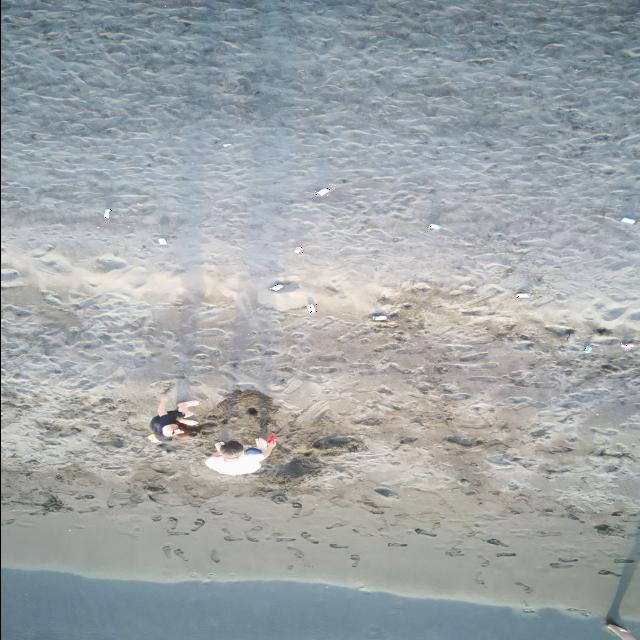Garbage: (315, 187, 329, 195), (147, 433, 159, 442), (620, 216, 635, 223), (372, 313, 387, 320), (270, 283, 283, 291), (620, 342, 635, 348), (103, 207, 111, 218), (515, 292, 529, 298), (307, 303, 316, 312), (293, 244, 303, 252), (267, 435, 276, 443), (428, 223, 440, 228), (584, 345, 591, 352), (158, 238, 166, 244), (223, 143, 231, 147)
